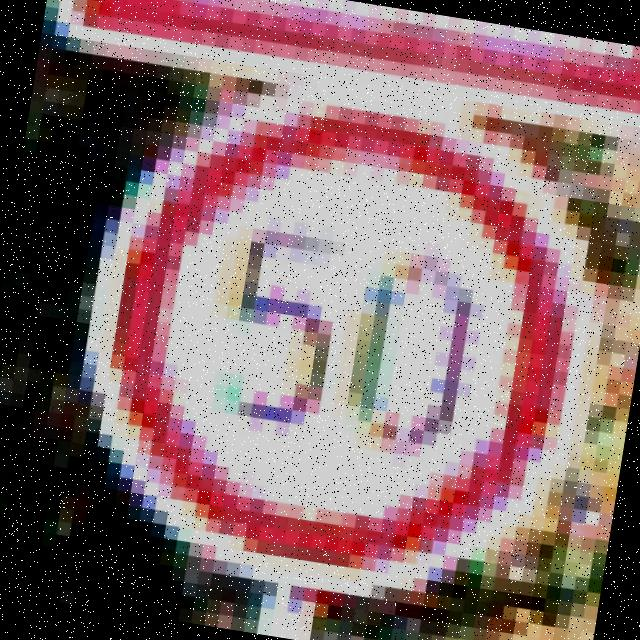Ograniczenie predkosci do 50: (84, 71, 606, 598)
